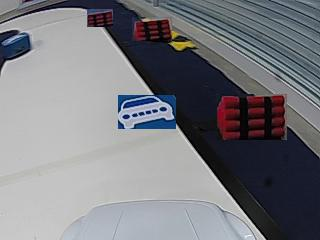prop: (1, 32, 31, 60)
